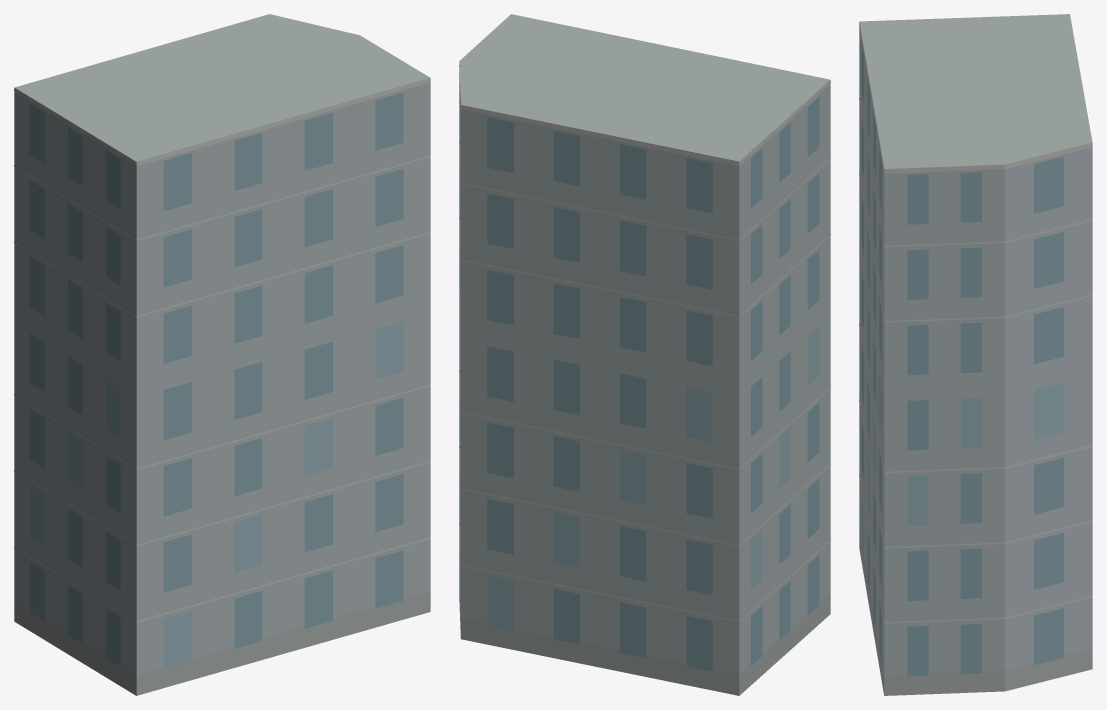
The model's file is survey-upis-32804906.glb.
3 renders of one model, left to right at view 1: azimuth 30°, elevation 25°; view 2: azimuth 150°, elevation 25°; view 3: azimuth 270°, elevation 25°, orthographic.
Parts seen in each view (by area): view 1: survey-upis-32804906.tmp; view 2: survey-upis-32804906.tmp; view 3: survey-upis-32804906.tmp.
Part boxes in pixels (bbox=[...]): survey-upis-32804906.tmp: bbox=[14, 14, 430, 695]; survey-upis-32804906.tmp: bbox=[459, 14, 830, 695]; survey-upis-32804906.tmp: bbox=[859, 14, 1092, 695].
Size of the model in its own units: 17.89 by 28.3 by 11.38.
